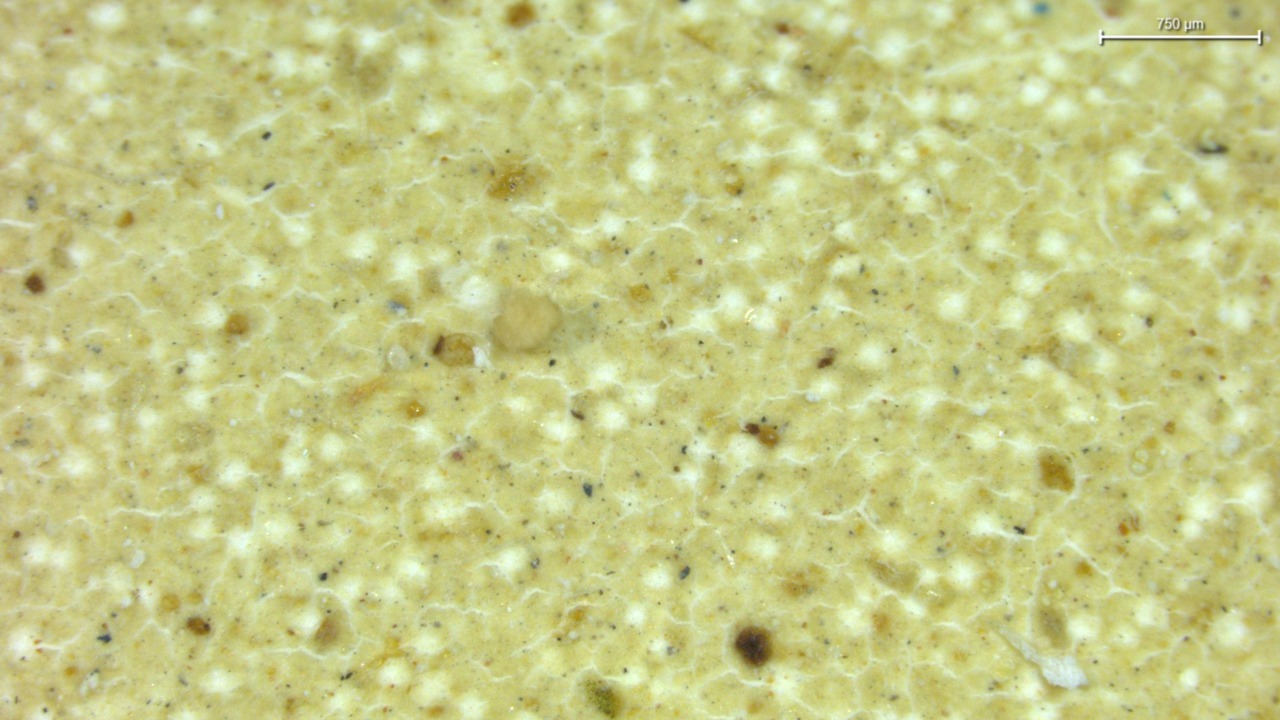microplastic_fragment: (496, 296, 560, 353)
